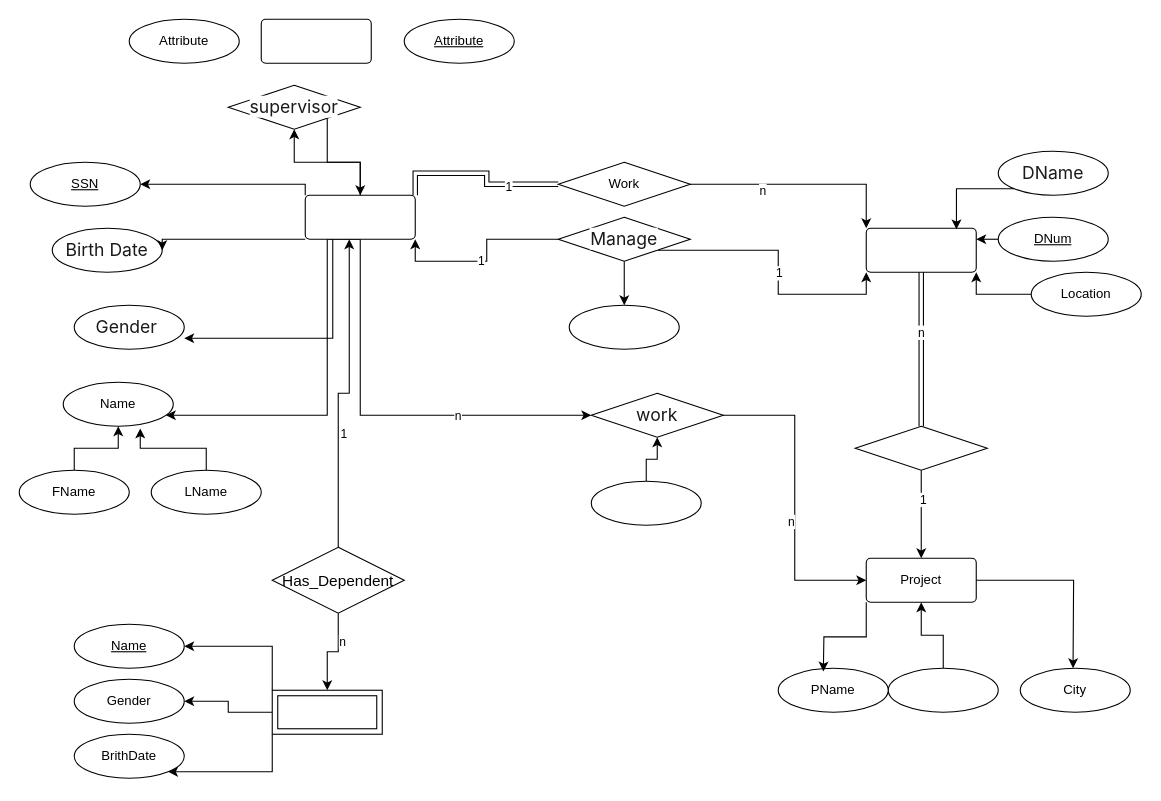
Some shapes in this 1161 by 801 pixel diagram are drawn without their labels. The centre of each missing label's shape, as x and y in pixels:
assigned: the point at 920,447
Department: the point at 920,249
dependents: the point at 326,711
employee: the point at 359,216
Entity: the point at 315,40
hiring Date: the point at 623,326
hour: the point at 645,502
PNumber: the point at 942,689
